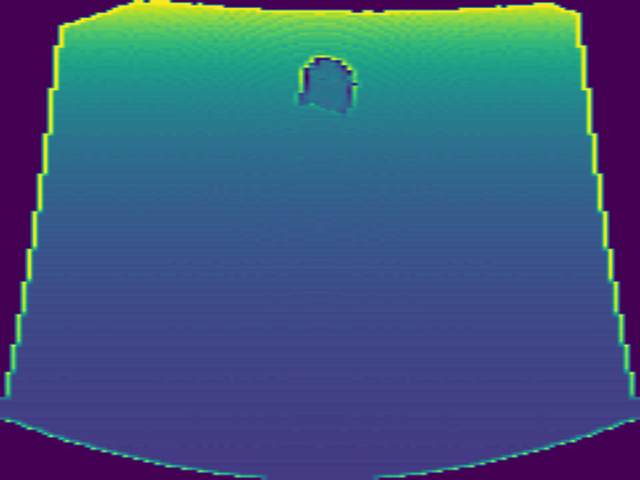car_0027: (293, 52, 360, 119)
